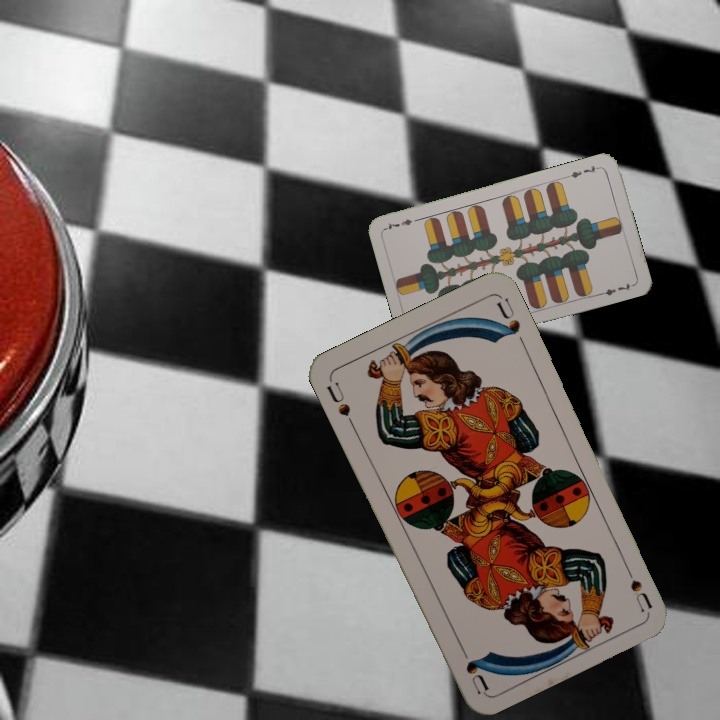E7: (563, 161, 603, 181)
SU: (618, 556, 655, 614), (322, 376, 358, 431)
